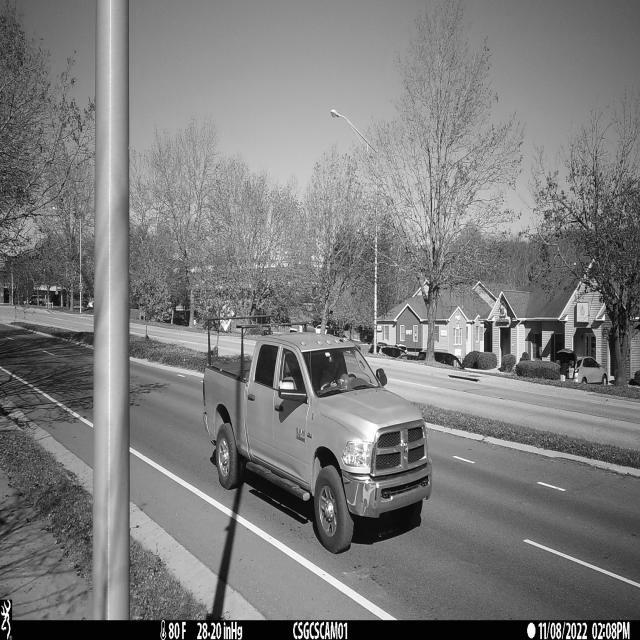Pickup: (204, 328, 433, 555)
